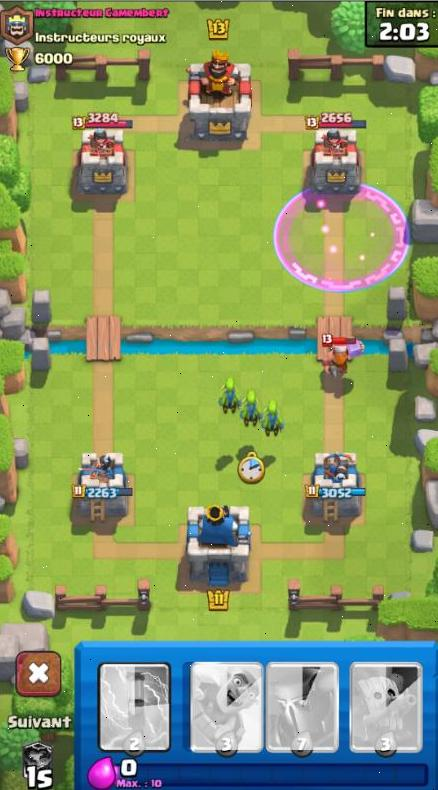enemy_lumberjack: (312, 331, 366, 379)
player_goblins: (214, 377, 244, 413), (260, 400, 288, 436), (237, 389, 265, 424)
rage: (265, 177, 414, 297)
